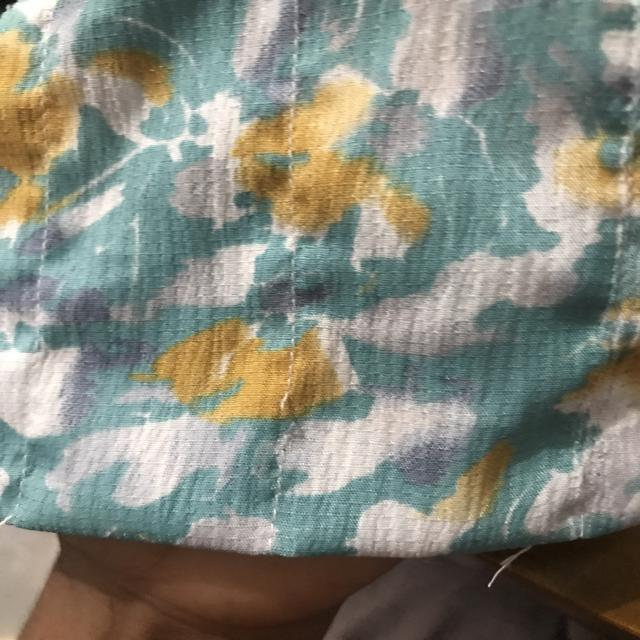broken: (258, 382, 312, 444)
